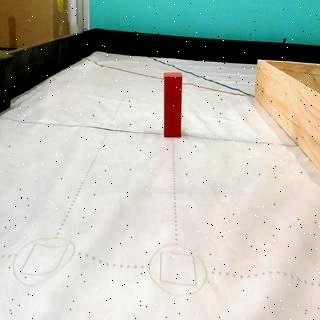redbox: (162, 70, 182, 136)
